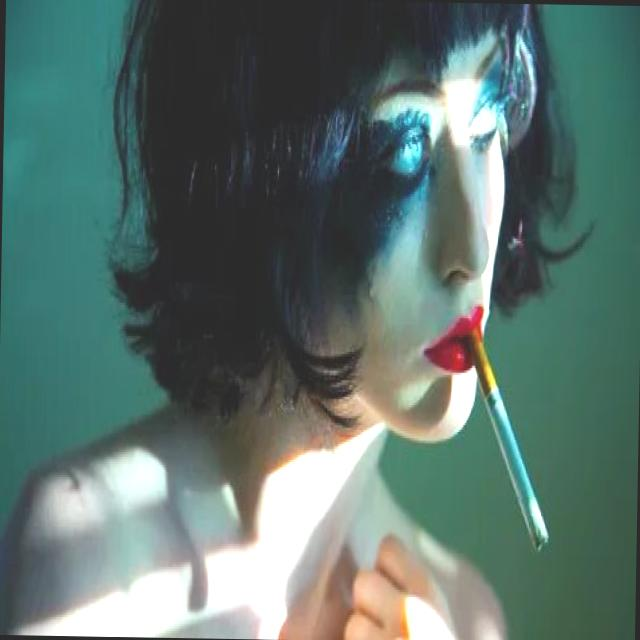smoke: (464, 326, 554, 556)
